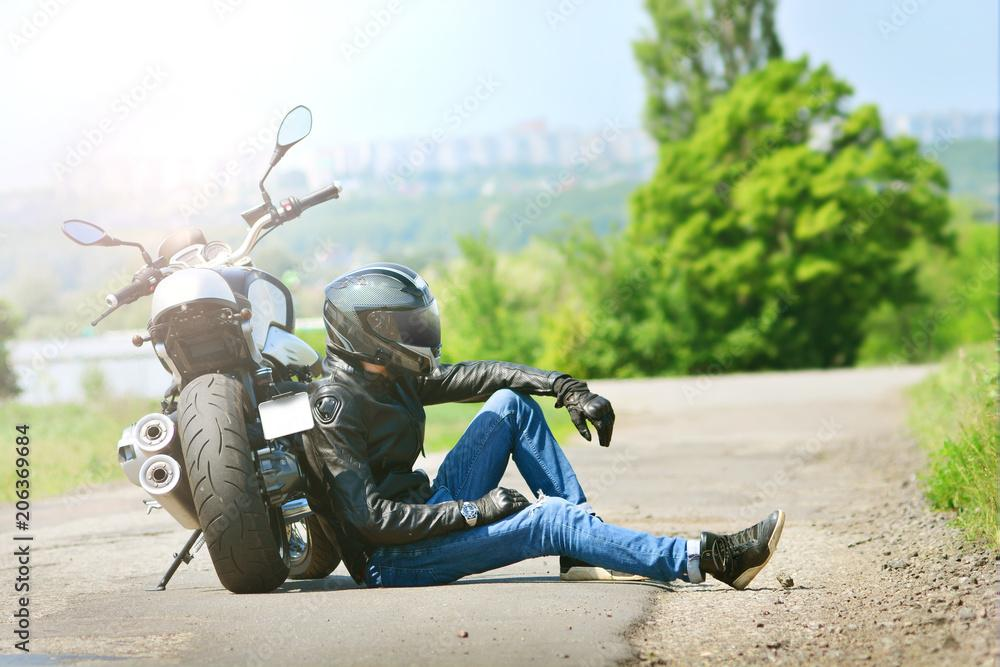helmet: (322, 261, 443, 378)
